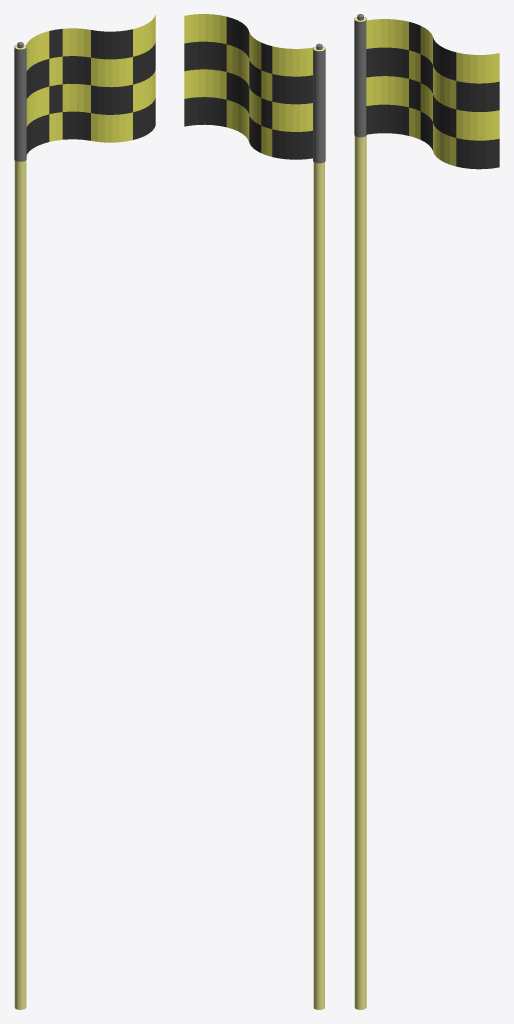
Rendered from FlagGoalPoint.fbx.
3 renders of one model, left to right at view 1: azimuth 30°, elevation 25°; view 2: azimuth 150°, elevation 25°; view 3: azimuth 330°, elevation 25°, orthographic. The views are drawn at different scales.
Parts seen in each view (by area): view 1: [1542]; view 2: [1542]; view 3: [1542].
Part boxes in pixels (x1=…): [1542]: x1=14, y1=15, x2=155, y2=1009; [1542]: x1=184, y1=14, x2=325, y2=1009; [1542]: x1=354, y1=14, x2=499, y2=1009.
Size of the model in its own units: 40.62 by 266 by 9.53.
